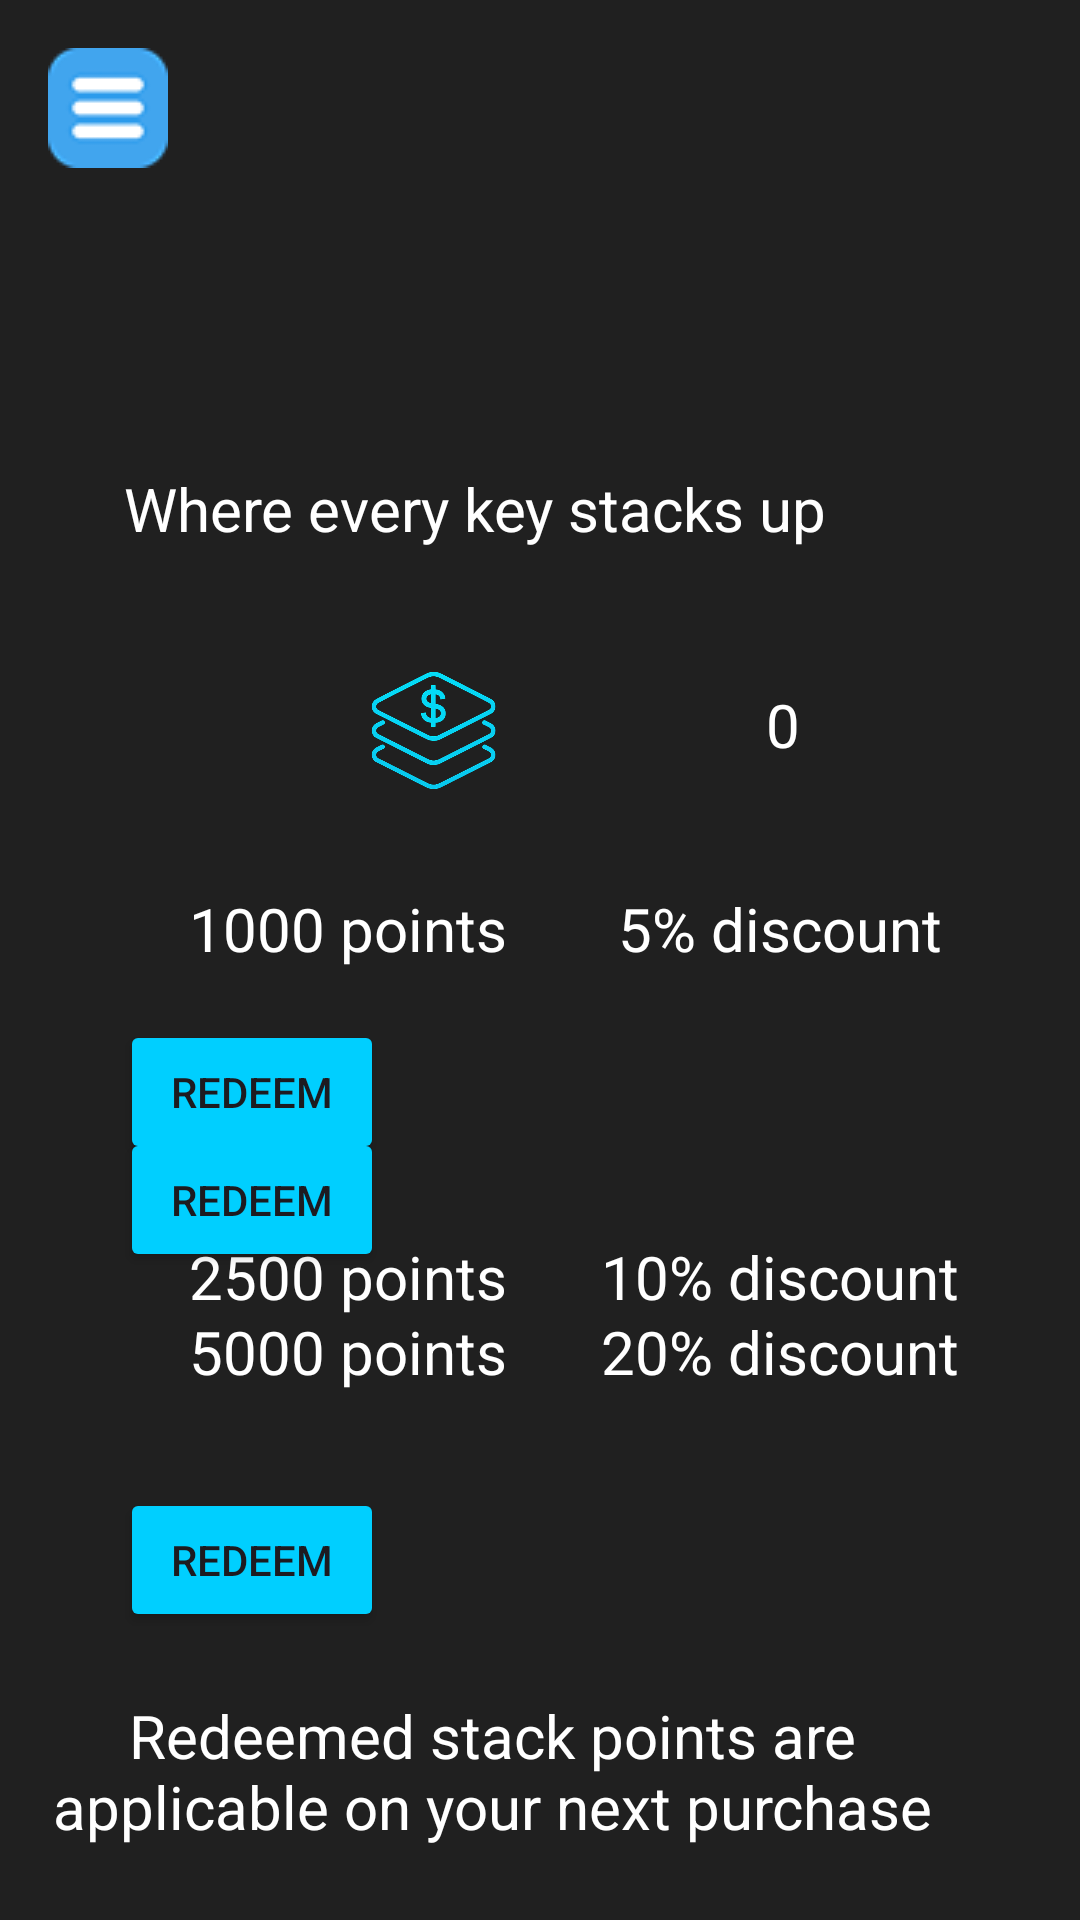

Locate icon controls on the screen. Image size 1080px x 1920px, boxes as (x1, y1, x2, y2).
Menu: (48, 48, 168, 168)
